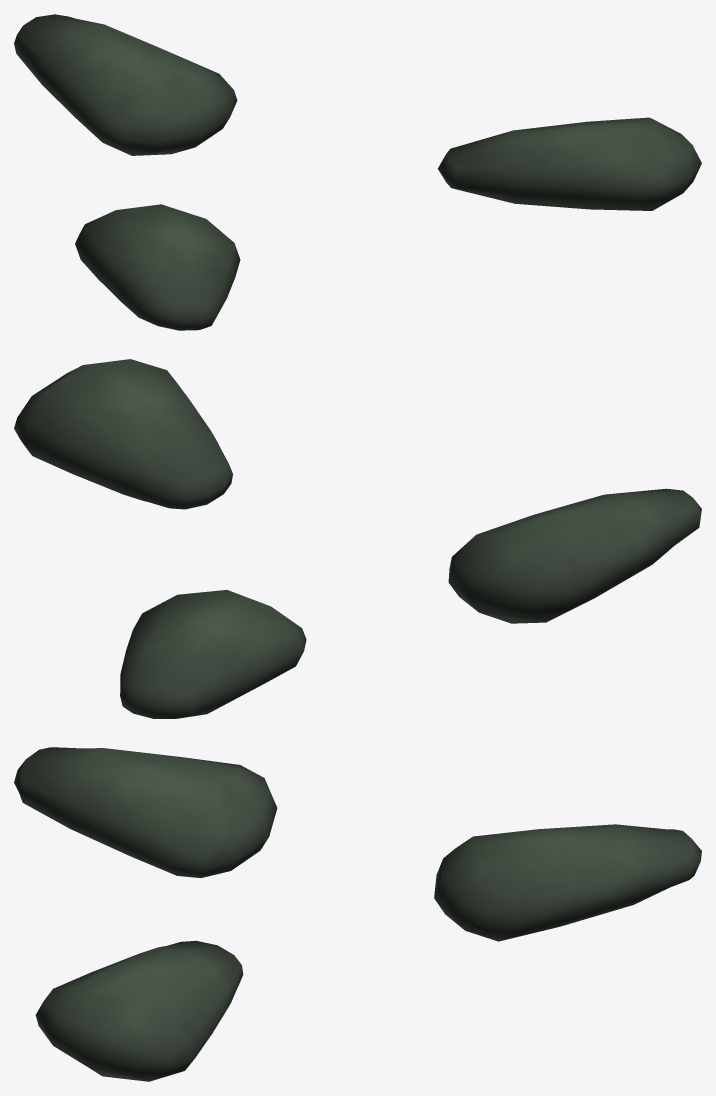
File: Crop_Onions_Stage_01.fbx
3 renders of one model, top to bottom at view 1: azimuth 30°, elevation 25°; view 2: azimuth 150°, elevation 25°; view 3: azimuth 270°, elevation 25°, orthographic. The views are drawn at different scales.
Parts seen in each view (by area): view 1: Onions_Stage_01; view 2: Onions_Stage_01; view 3: Onions_Stage_01.
Part boxes in pixels (x1=…): Onions_Stage_01: x1=14, y1=14, x2=701, y2=330; Onions_Stage_01: x1=14, y1=359, x2=701, y2=718; Onions_Stage_01: x1=14, y1=747, x2=701, y2=1081.
Bounding box in the file's own units: 22.91 × 3.36 × 22.44.
